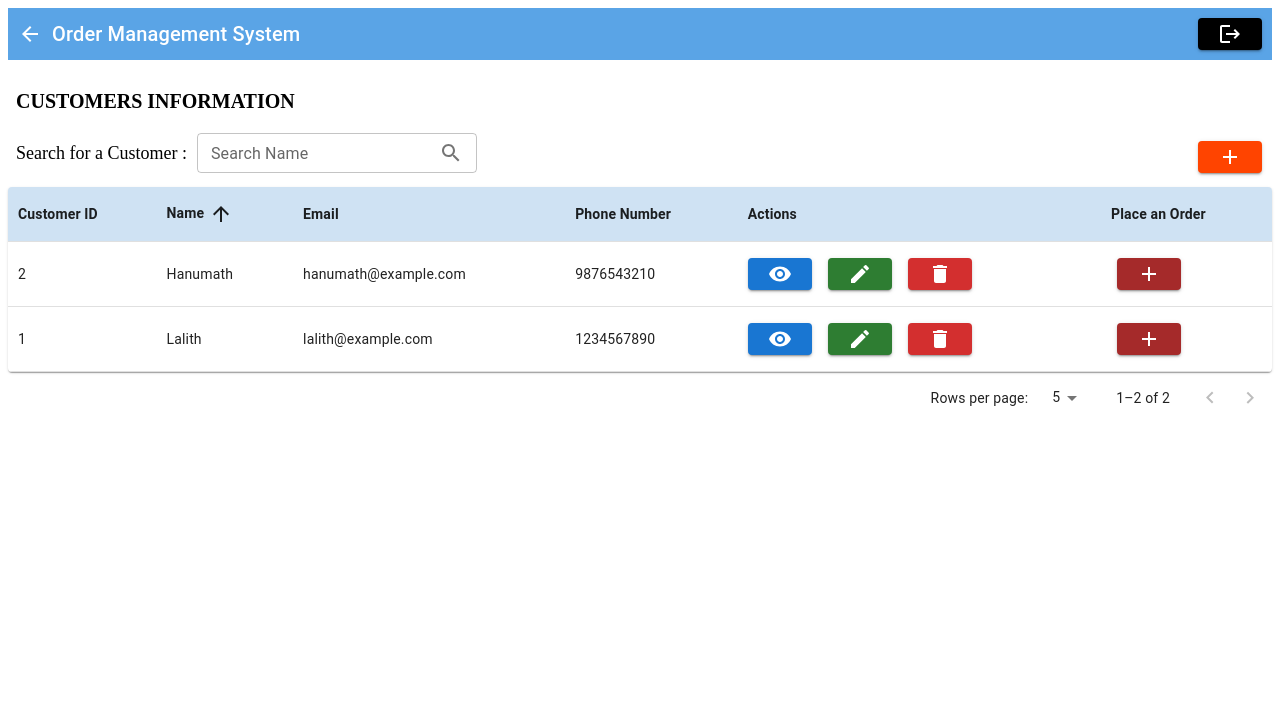
Customer Component › closes the confirmation dialog when canceling deletion
Click the button with test id "deleteicon-2": click(940, 274) [908,258,972,290]
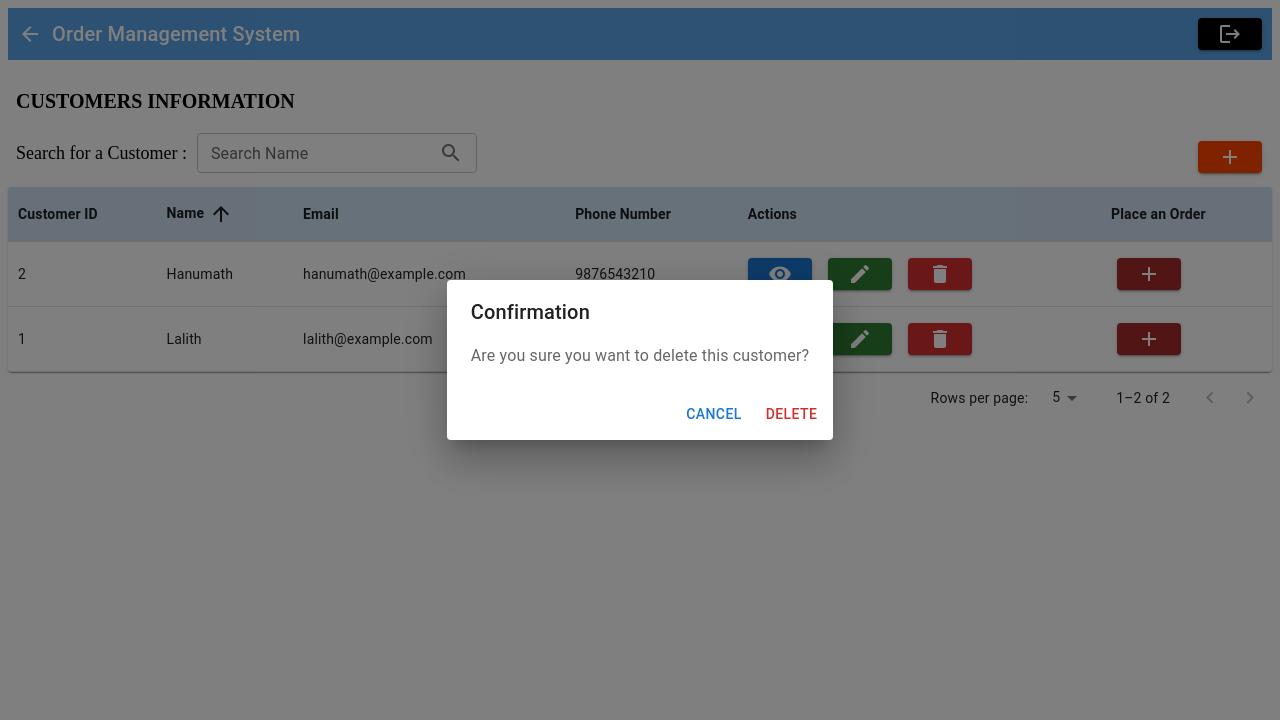
Click the button "Cancel": click(714, 414) [678,396,750,432]
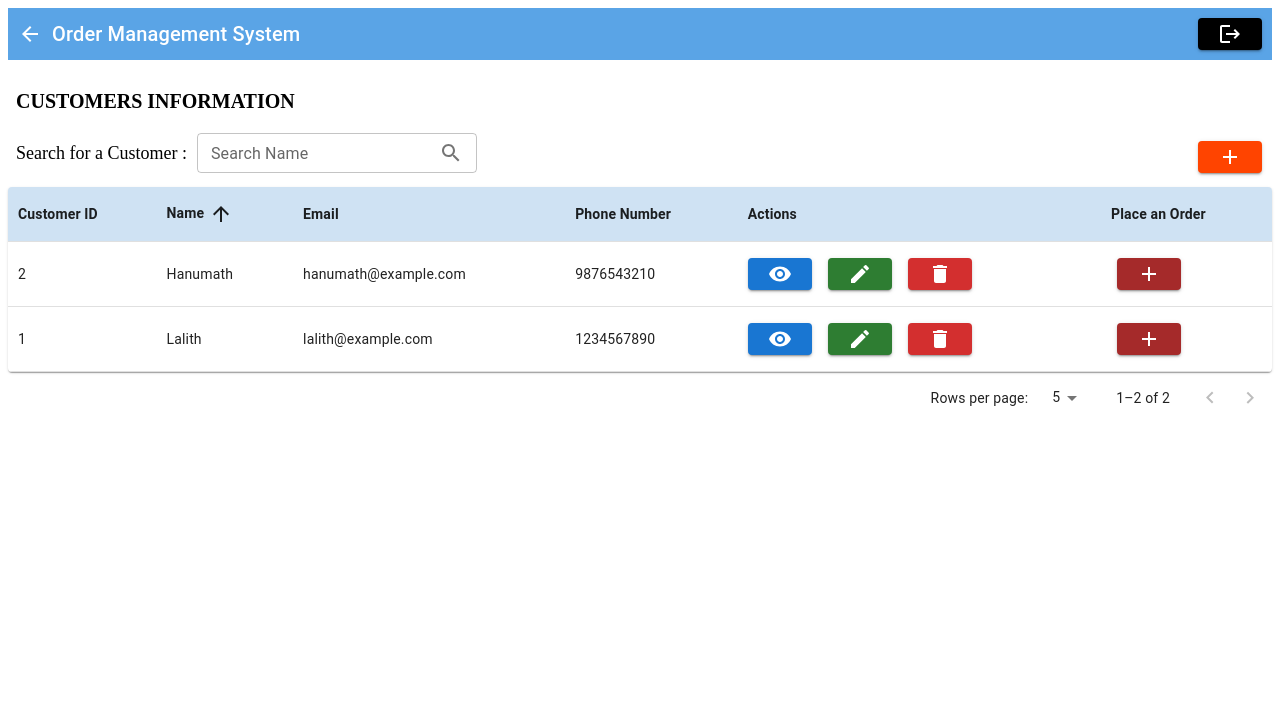
Check: the heading "Confirmation" is gone
